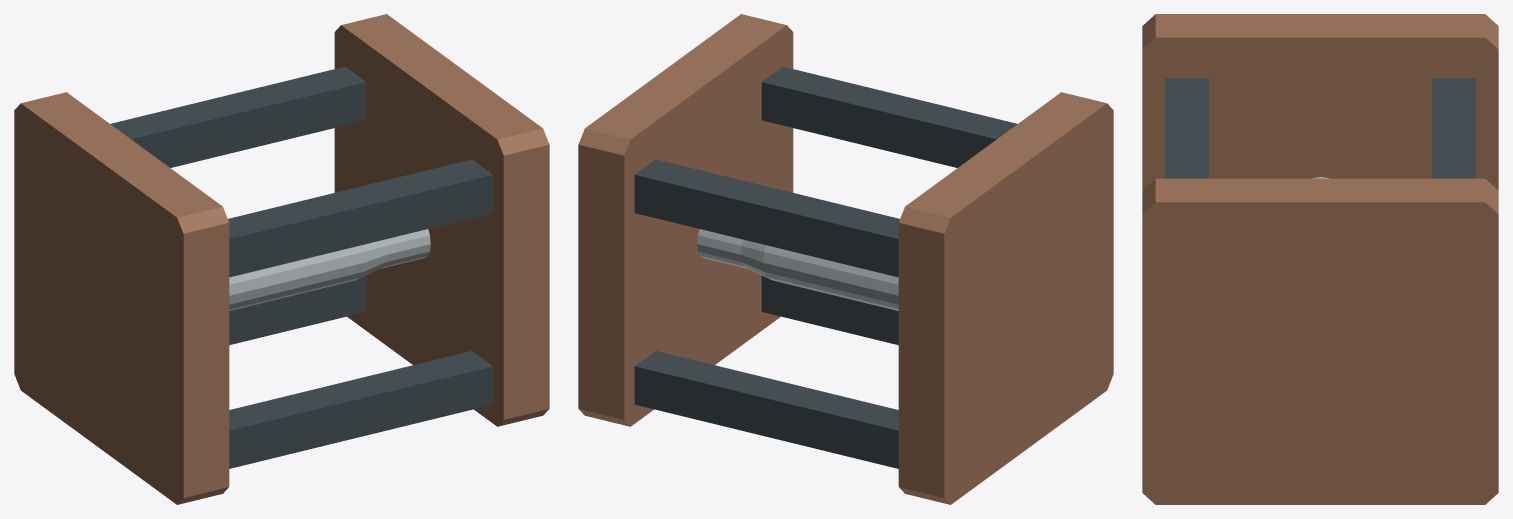
3 renders of one model, left to right at view 1: azimuth 30°, elevation 25°; view 2: azimuth 150°, elevation 25°; view 3: azimuth 270°, elevation 25°, orthographic. The views are drawn at different scales.
Parts seen in each view (by area): view 1: Left_WholeEndWeight, Right_WholeEndWeight, Front_Upper_WholeCornerWeightRail, Front_Lower_WholeCornerWeightRail, Rear_Upper_WholeCornerWeightRail, Central_SwollenGrip, Rear_Lower_WholeCornerWeightRail; view 2: Left_WholeEndWeight, Right_WholeEndWeight, Rear_Upper_WholeCornerWeightRail, Rear_Lower_WholeCornerWeightRail, Front_Upper_WholeCornerWeightRail, Central_SwollenGrip, Front_Lower_WholeCornerWeightRail; view 3: Right_WholeEndWeight, Left_WholeEndWeight, Front_Upper_WholeCornerWeightRail, Rear_Upper_WholeCornerWeightRail.
Part boxes in pixels (<box>): Left_WholeEndWeight: <box>14,92,229,504</box>; Right_WholeEndWeight: <box>334,14,549,426</box>; Front_Upper_WholeCornerWeightRail: <box>228,159,493,277</box>; Front_Lower_WholeCornerWeightRail: <box>229,351,493,468</box>; Rear_Upper_WholeCornerWeightRail: <box>110,66,366,167</box>; Central_SwollenGrip: <box>229,229,430,310</box>; Rear_Lower_WholeCornerWeightRail: <box>229,275,366,344</box>; Left_WholeEndWeight: <box>898,92,1113,504</box>; Right_WholeEndWeight: <box>578,14,793,426</box>; Rear_Upper_WholeCornerWeightRail: <box>634,159,899,277</box>; Rear_Lower_WholeCornerWeightRail: <box>634,351,898,468</box>; Front_Upper_WholeCornerWeightRail: <box>761,66,1017,167</box>; Central_SwollenGrip: <box>697,229,898,310</box>; Front_Lower_WholeCornerWeightRail: <box>761,275,898,344</box>; Right_WholeEndWeight: <box>1142,178,1498,504</box>; Left_WholeEndWeight: <box>1142,14,1498,190</box>; Front_Upper_WholeCornerWeightRail: <box>1164,78,1208,178</box>; Rear_Upper_WholeCornerWeightRail: <box>1432,78,1476,178</box>.
Bounding box in the file's own units: 0.4 × 0.3 × 0.32.
